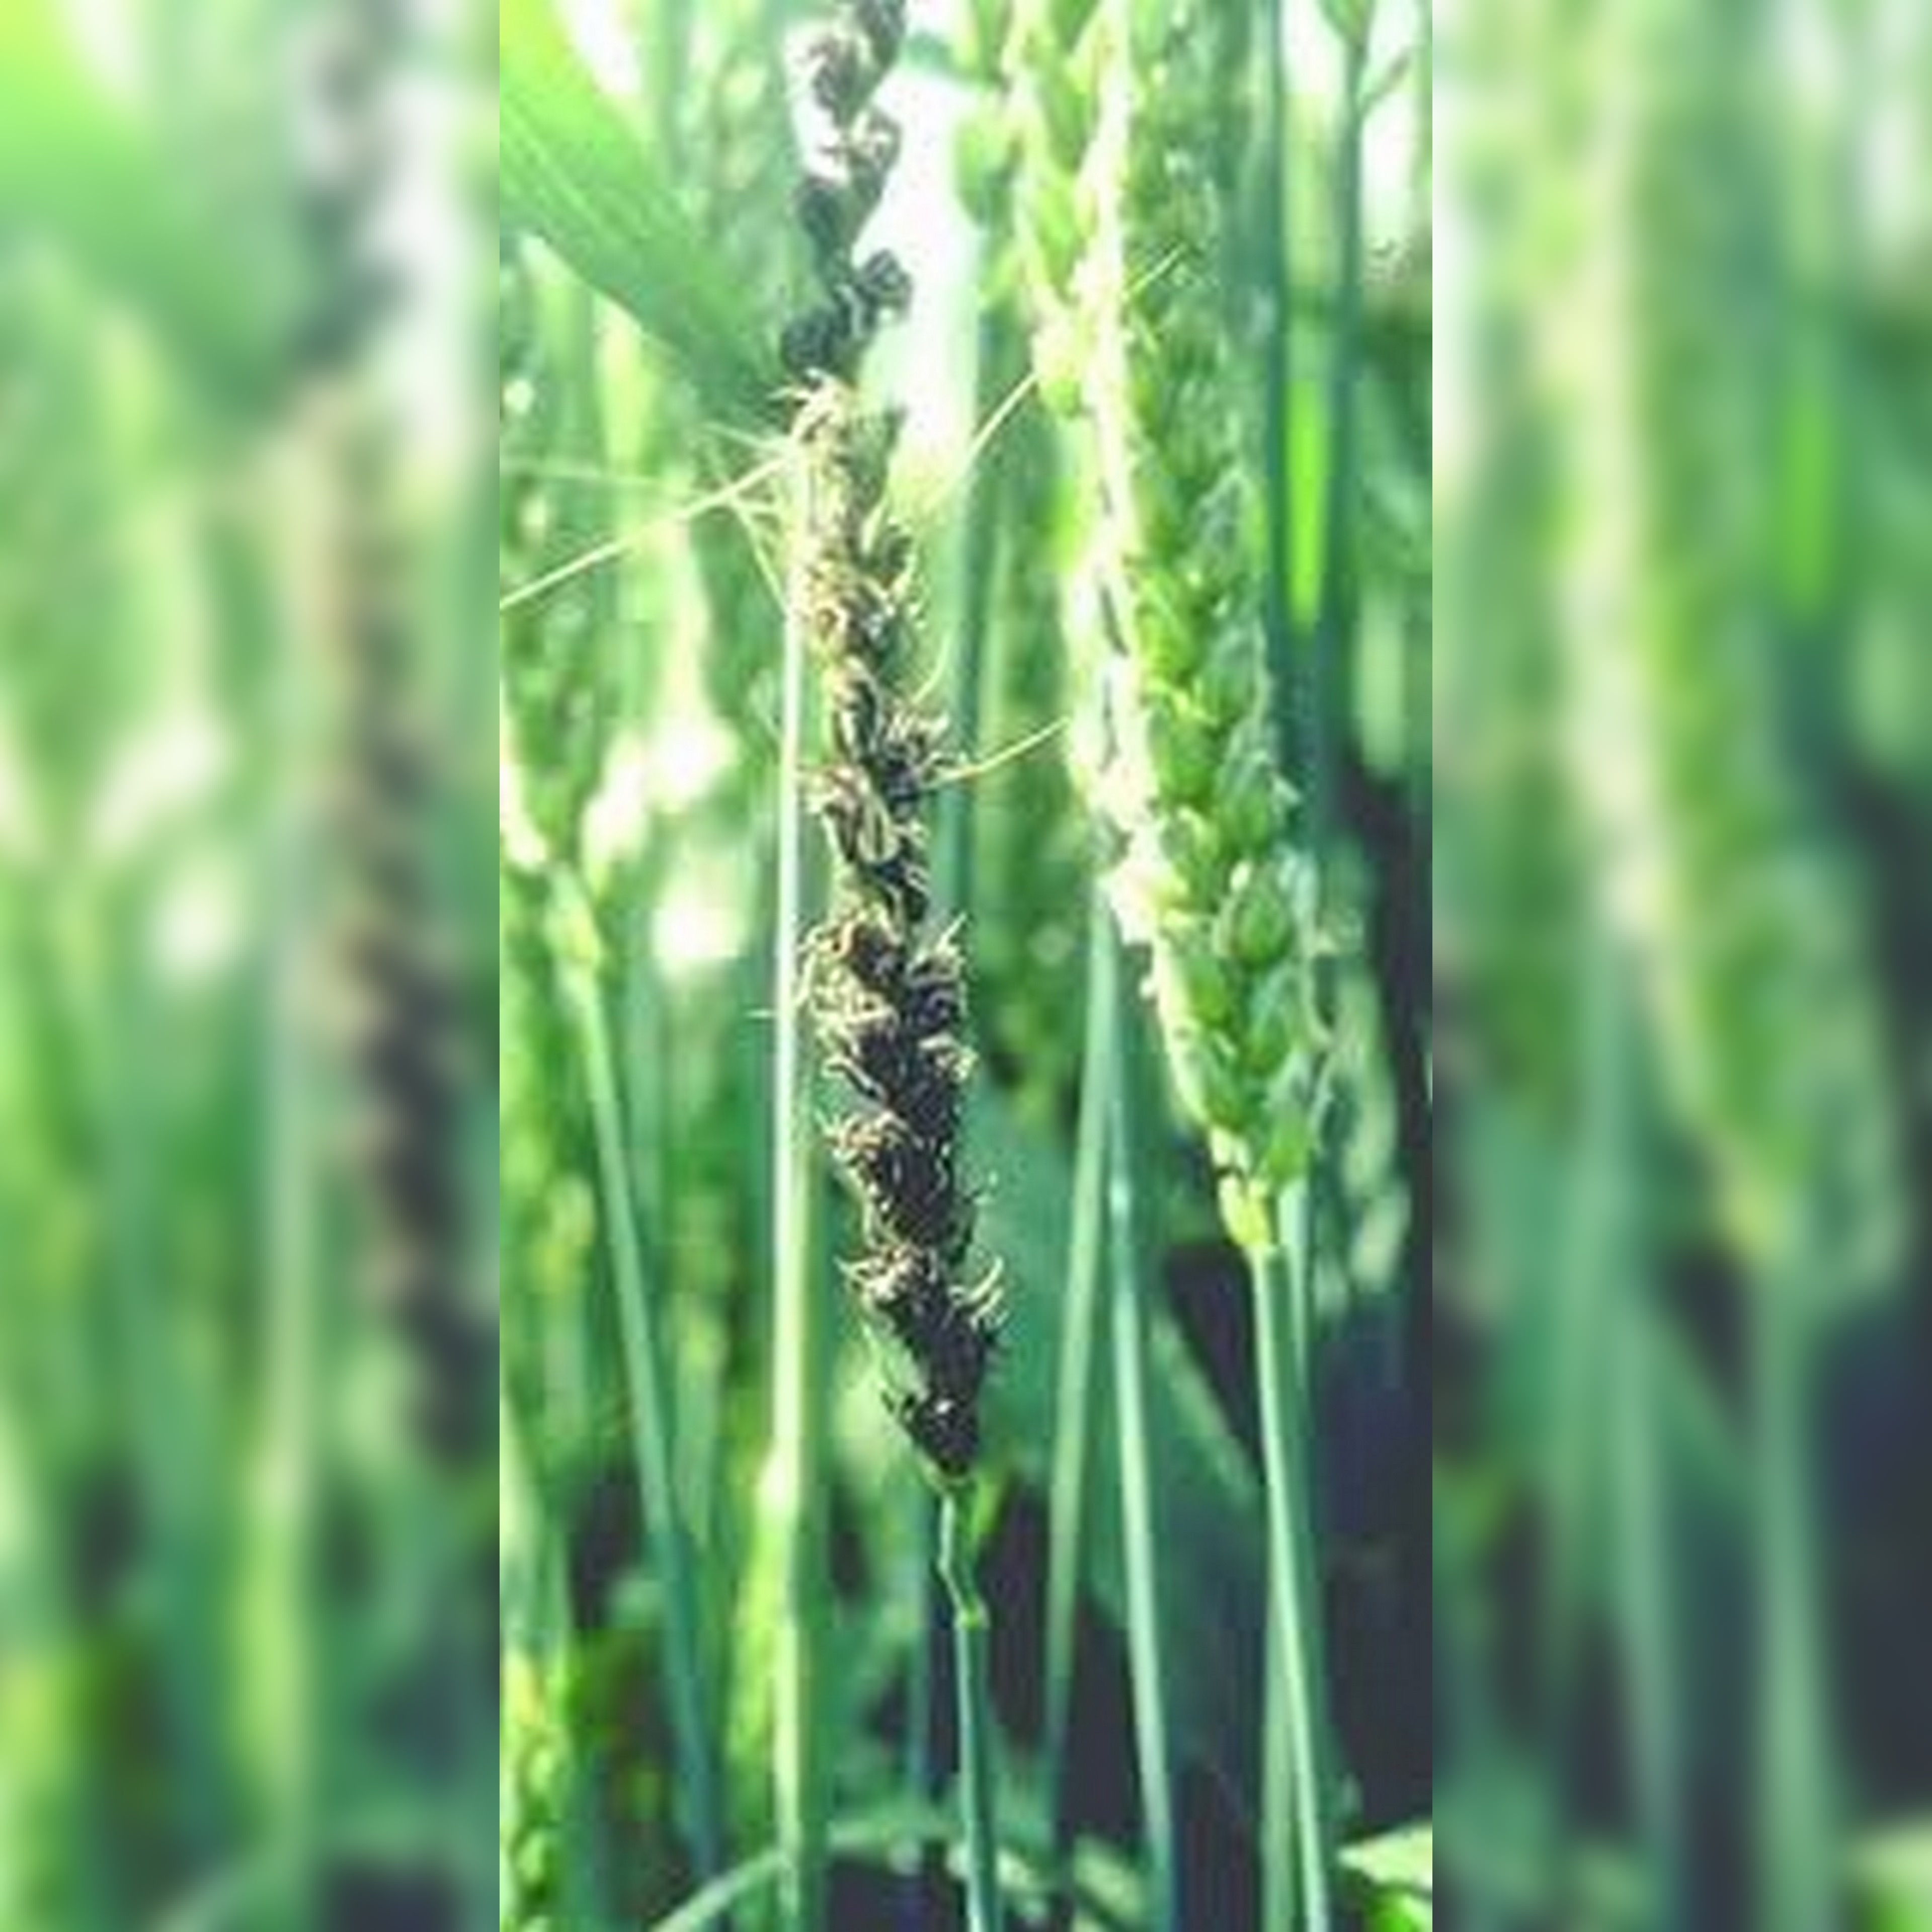Wheat Loose Smut: (754, 400, 1047, 1463)
